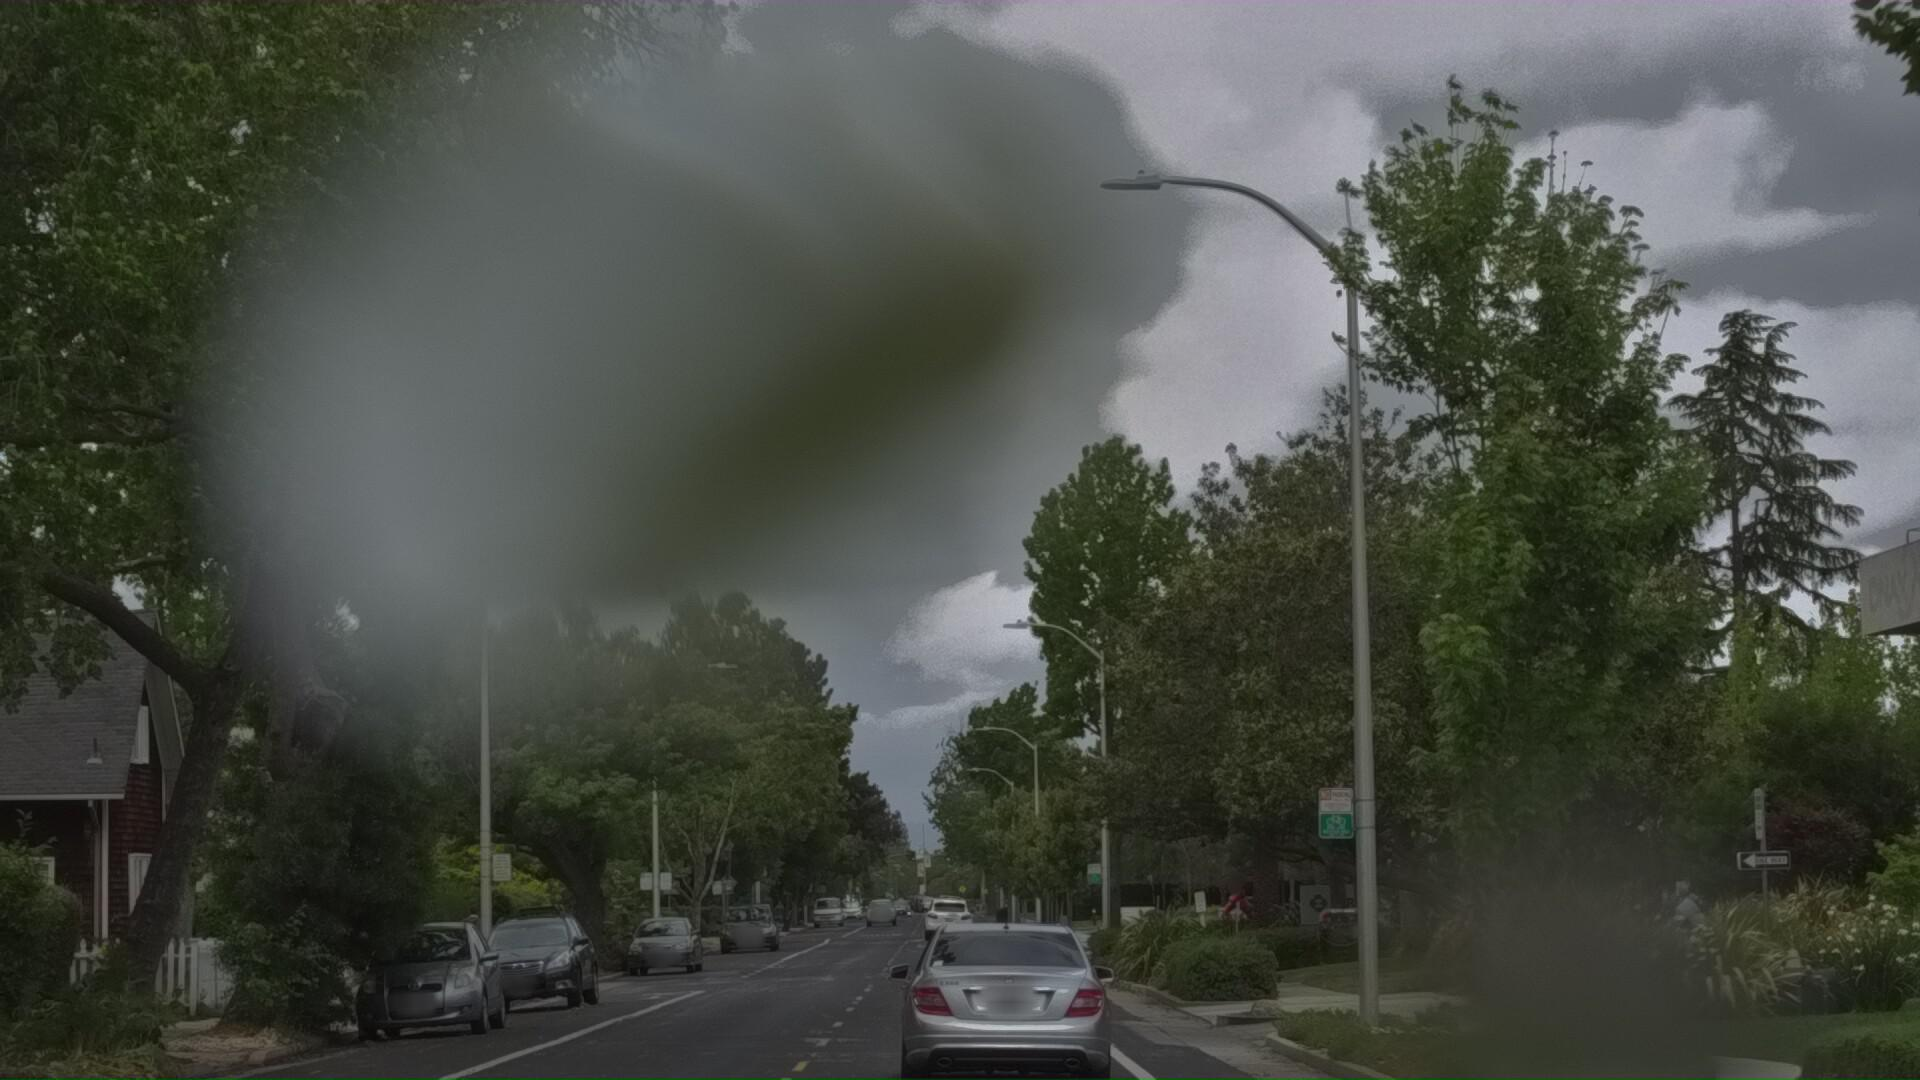car: (891, 927, 1124, 1080), (357, 931, 524, 1069), (462, 913, 626, 1040)
